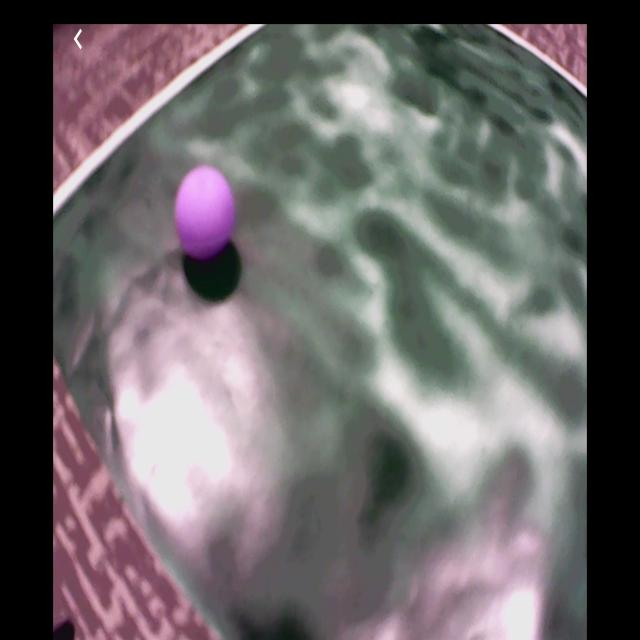ball: (177, 169, 235, 257)
